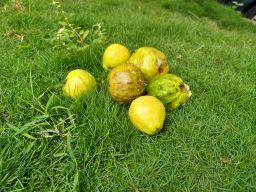guava: (147, 70, 193, 111), (125, 93, 168, 135), (127, 45, 171, 85), (104, 61, 147, 101), (60, 64, 99, 104), (101, 40, 130, 70)
